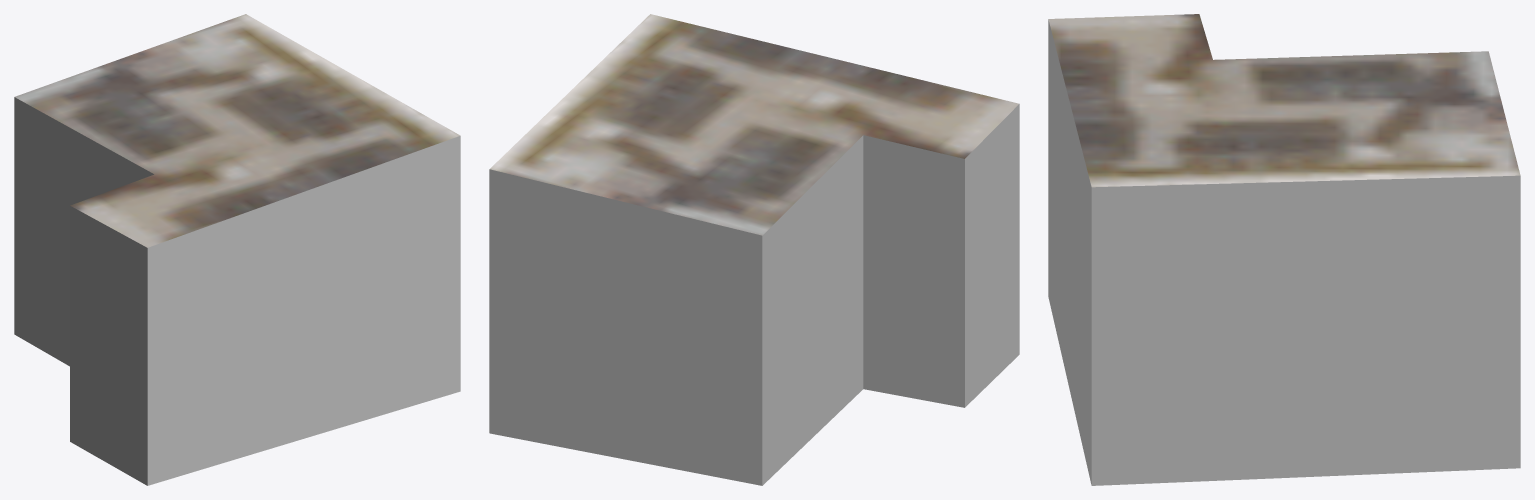
Rendered from DEBW_0010007Tx9g.gltf.
The picture shows the model from 3 angles, left to right: view 1: azimuth 30°, elevation 25°; view 2: azimuth 150°, elevation 25°; view 3: azimuth 270°, elevation 25°; orthographic projection. The views are drawn at different scales.
Parts seen in each view (by area): view 1: Z_UP; view 2: Z_UP; view 3: Z_UP.
Part boxes in pixels (left/top/right/bottom): Z_UP: left=14, top=14, right=460, bottom=485; Z_UP: left=489, top=14, right=1019, bottom=485; Z_UP: left=1048, top=14, right=1520, bottom=485.
Size of the model in its own units: 10.21 by 7.25 by 10.38.
Materials: 2 (1 with a texture image).
